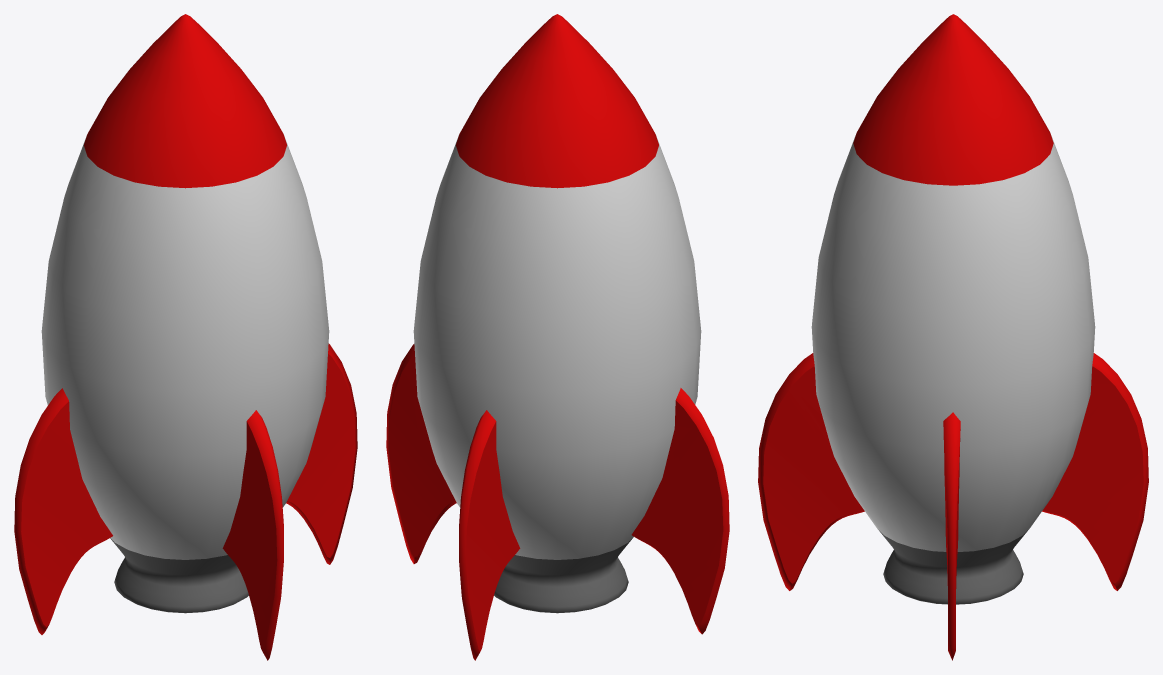
File: rocket_ship.fbx
3 views of the same model, side by side, from view 1: azimuth 30°, elevation 25°; view 2: azimuth 150°, elevation 25°; view 3: azimuth 270°, elevation 25° (orthographic).
Visible parts, largest first — view 1: Rocket; view 2: Rocket; view 3: Rocket.
Part boxes in pixels (left/top/right/bottom): Rocket: left=14, top=14, right=357, bottom=660; Rocket: left=386, top=14, right=729, bottom=660; Rocket: left=758, top=14, right=1148, bottom=660.
Size of the model in its own units: 5.26 by 5.26 by 8.58.
